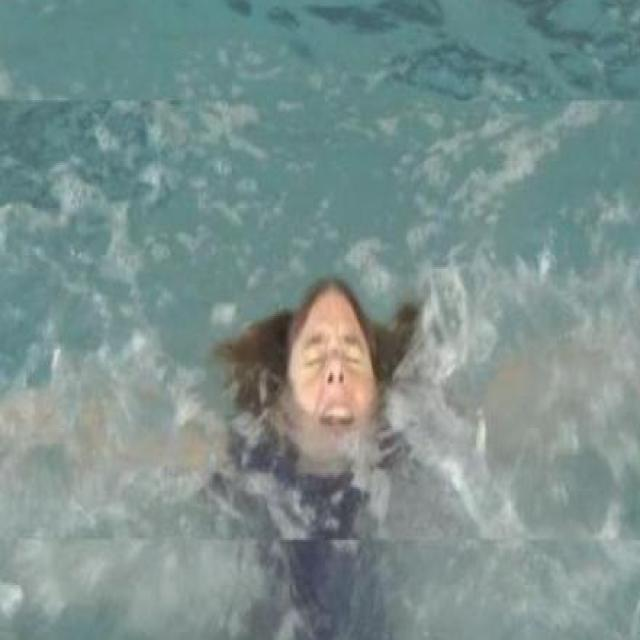Drowning: (195, 268, 459, 486)
